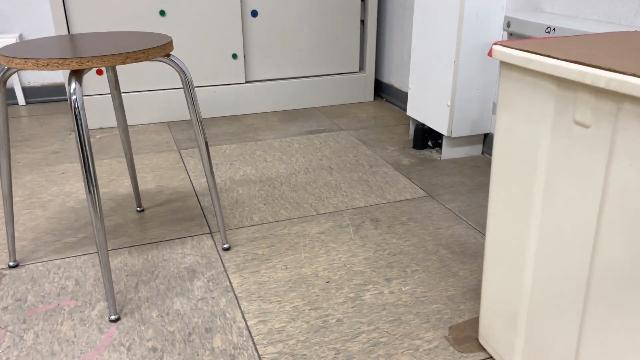Stool: (1, 25, 238, 326)
